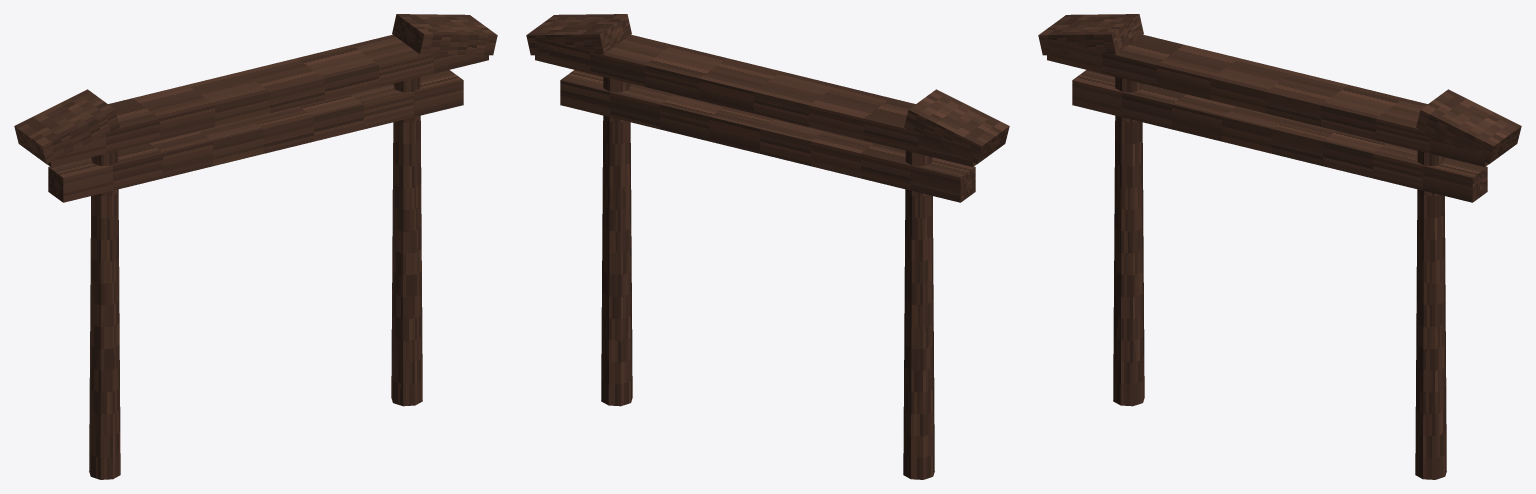
File: gate_30.glb
3 renders of one model, left to right at view 1: azimuth 30°, elevation 25°; view 2: azimuth 150°, elevation 25°; view 3: azimuth 330°, elevation 25°, orthographic.
Visible parts, largest first — view 1: Roof, Lintel, Pillar, Pillar.001, RaisedEave, RaisedEave.001; view 2: Roof, Lintel, Pillar, Pillar.001, RaisedEave, RaisedEave.001; view 3: Roof, Lintel, Pillar, Pillar.001, RaisedEave.001, RaisedEave.
Part boxes in pixels (left/top/right/bottom): Roof: left=47, top=34, right=488, bottom=166; Lintel: left=48, top=70, right=463, bottom=202; Pillar: left=89, top=151, right=120, bottom=479; Pillar.001: left=391, top=77, right=422, bottom=406; RaisedEave: left=14, top=89, right=119, bottom=163; RaisedEave.001: left=392, top=14, right=497, bottom=55; Roof: left=535, top=34, right=976, bottom=166; Lintel: left=560, top=70, right=975, bottom=202; Pillar: left=903, top=151, right=934, bottom=479; Pillar.001: left=601, top=77, right=632, bottom=406; RaisedEave: left=904, top=89, right=1009, bottom=163; RaisedEave.001: left=526, top=14, right=631, bottom=55; Roof: left=1047, top=34, right=1488, bottom=166; Lintel: left=1072, top=70, right=1487, bottom=202; Pillar: left=1113, top=77, right=1144, bottom=406; Pillar.001: left=1415, top=151, right=1446, bottom=479; RaisedEave.001: left=1416, top=89, right=1521, bottom=163; RaisedEave: left=1038, top=14, right=1143, bottom=55.
Bounding box in the file's own units: 6.13 × 4.82 × 0.65.
1 material, 1 textured.
